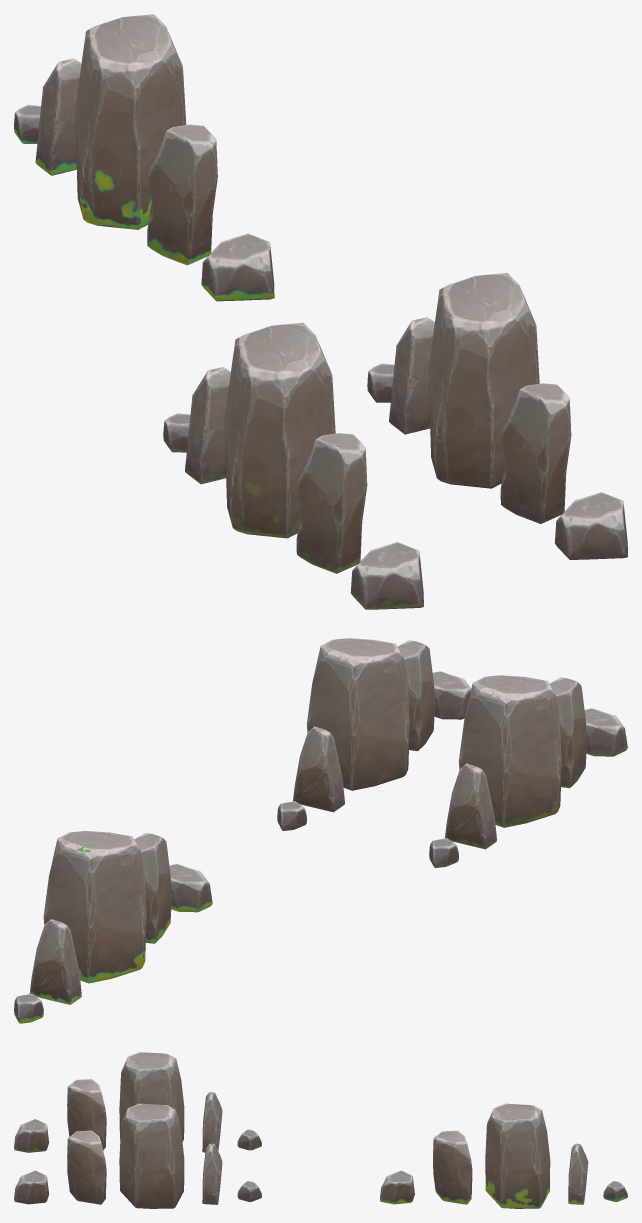
Rendered from stones.glb.
The picture shows the model from 3 angles, top to bottom: view 1: azimuth 30°, elevation 25°; view 2: azimuth 150°, elevation 25°; view 3: azimuth 270°, elevation 25°; orthographic projection. The views are drawn at different scales.
Visible parts, largest first — view 1: Stone_5_Low, Stone_5_Low.002, Stone_5_Low.001, Stone_4_Low, Stone_4_Low.002, Stone_4_Low.001, Stone_2_Low, Stone_2_Low.001, Stone_2_Low.002, Stone_3_Low, Stone_3_Low.001, Stone_3_Low.002 (+3 smaller); view 2: Stone_5_Low.001, Stone_5_Low, Stone_5_Low.002, Stone_3_Low.002, Stone_3_Low, Stone_3_Low.001, Stone_4_Low, Stone_4_Low.001, Stone_4_Low.002, Stone_2_Low.002, Stone_2_Low, Stone_2_Low.001 (+3 smaller); view 3: Stone_5_Low.001, Stone_5_Low, Stone_5_Low.002, Stone_4_Low.001, Stone_4_Low, Stone_4_Low.002, Stone_3_Low, Stone_3_Low.001, Stone_2_Low.001, Stone_2_Low.002, Stone_2_Low, Stone_3_Low.002 (+3 smaller).
Part boxes in pixels (box(x1,y1,x2,y2)): Stone_5_Low: box(75, 14, 186, 229); Stone_5_Low.002: box(224, 322, 335, 538); Stone_5_Low.001: box(428, 273, 539, 488); Stone_4_Low: box(147, 124, 217, 265); Stone_4_Low.002: box(296, 433, 367, 573); Stone_4_Low.001: box(500, 383, 571, 523); Stone_2_Low: box(201, 233, 274, 301); Stone_2_Low.001: box(555, 492, 627, 559); Stone_2_Low.002: box(350, 542, 423, 609); Stone_3_Low: box(35, 58, 81, 175); Stone_3_Low.001: box(389, 317, 434, 434); Stone_3_Low.002: box(185, 367, 230, 484); Stone_5_Low.001: box(307, 638, 409, 790); Stone_5_Low: box(43, 831, 146, 983); Stone_5_Low.002: box(458, 675, 561, 827); Stone_3_Low.002: box(445, 763, 496, 849); Stone_3_Low: box(29, 919, 81, 1004); Stone_3_Low.001: box(293, 726, 344, 812); Stone_4_Low: box(134, 833, 171, 943); Stone_4_Low.001: box(398, 640, 435, 751); Stone_4_Low.002: box(549, 677, 587, 788); Stone_2_Low.002: box(584, 708, 627, 756); Stone_2_Low: box(169, 864, 212, 912); Stone_2_Low.001: box(432, 671, 471, 719); Stone_5_Low.001: box(119, 1103, 184, 1208); Stone_5_Low: box(485, 1103, 550, 1208); Stone_5_Low.002: box(119, 1052, 184, 1141); Stone_4_Low.001: box(67, 1130, 106, 1204); Stone_4_Low: box(433, 1130, 472, 1204); Stone_4_Low.002: box(67, 1079, 106, 1150); Stone_3_Low: box(568, 1143, 588, 1204); Stone_3_Low.001: box(202, 1143, 222, 1204); Stone_2_Low.001: box(14, 1170, 48, 1204); Stone_2_Low.002: box(14, 1119, 48, 1152); Stone_2_Low: box(380, 1170, 414, 1204); Stone_3_Low.002: box(202, 1092, 222, 1152).
Size of the model in its own units: 304 by 166 by 1007.
3 materials, 3 textured.
